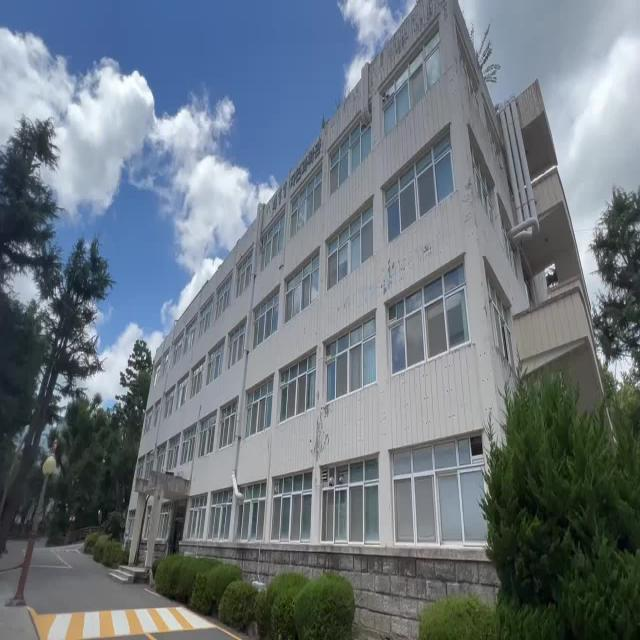building: (131, 123, 485, 550)
